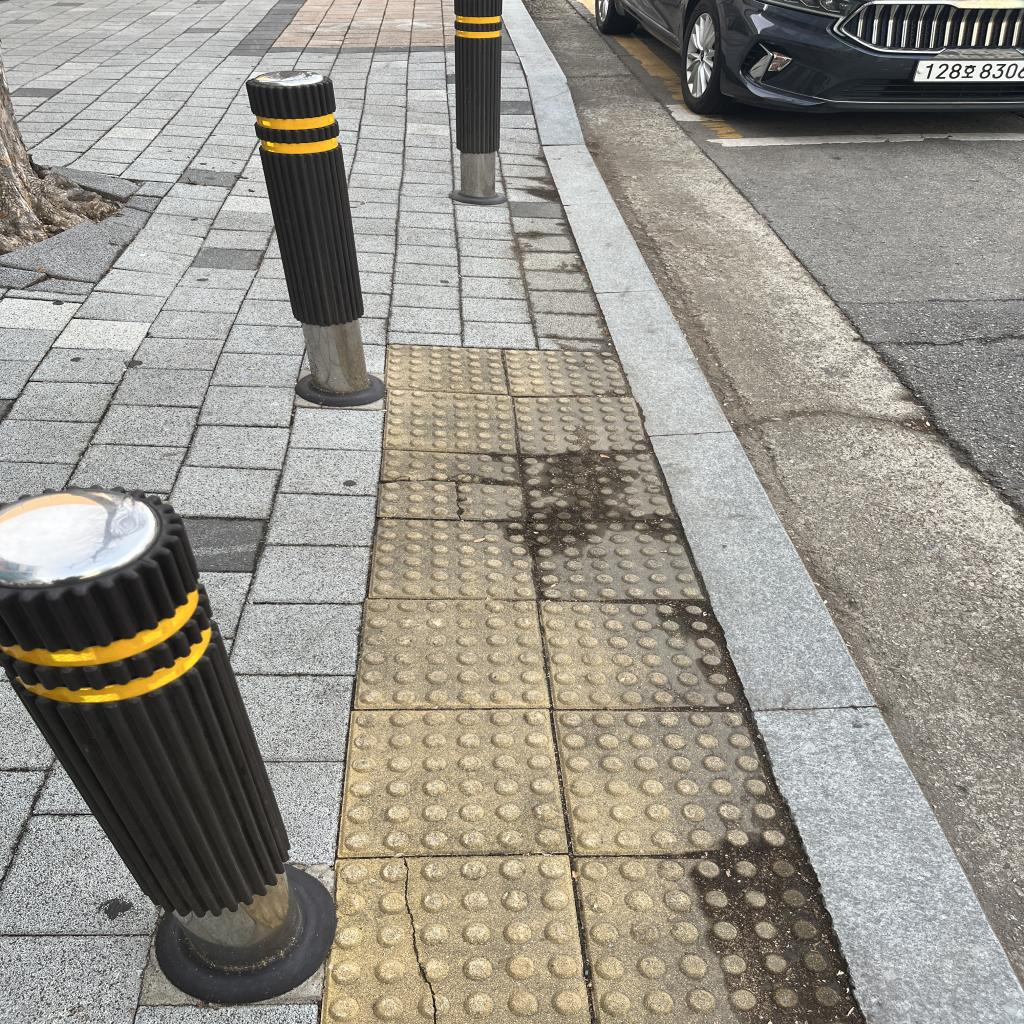Stop block broken: (380, 450, 527, 524)
Stop block normal: (554, 704, 793, 855), (356, 600, 548, 707), (385, 390, 518, 454)
